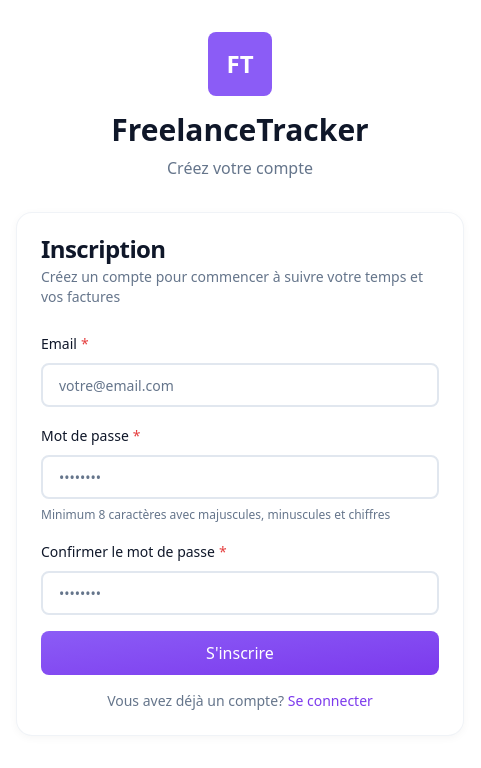
Scenario: Register page › validates email, password and confirm password before submitting
Step 1. Click the button "S'inscrire" → (240, 653), box [41, 631, 439, 675]
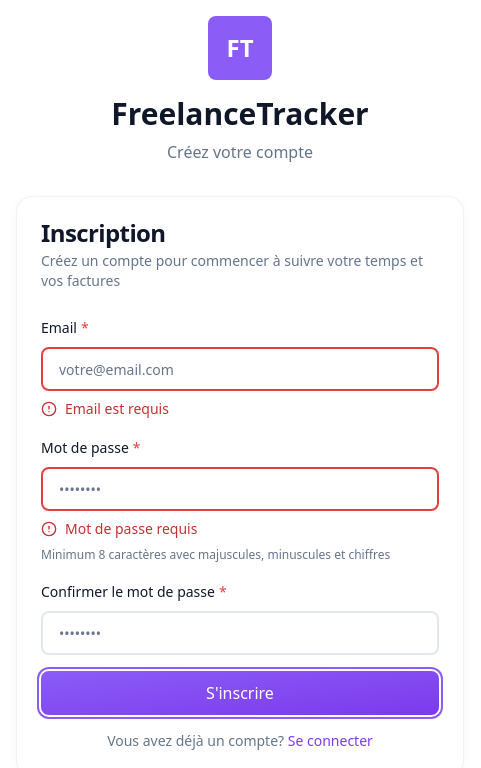
Check: the text "Email est requis" is shown, box [41, 399, 169, 418]
Check: the text "Mot de passe requis" is shown, box [41, 519, 197, 538]
Step 2. Type "user@example.com" into the field labelled "Email*" → (240, 369), box [41, 347, 439, 391]
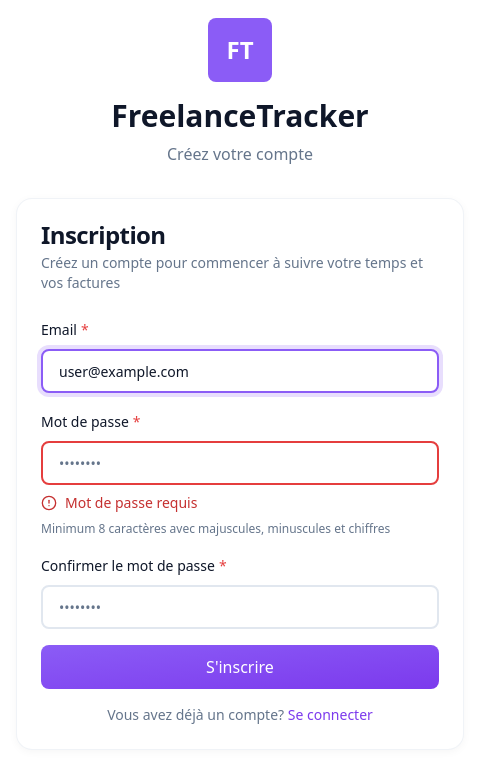
Step 3. Type "Password123" into the password field labelled "Mot de passe*" → (240, 463), box [41, 441, 439, 485]
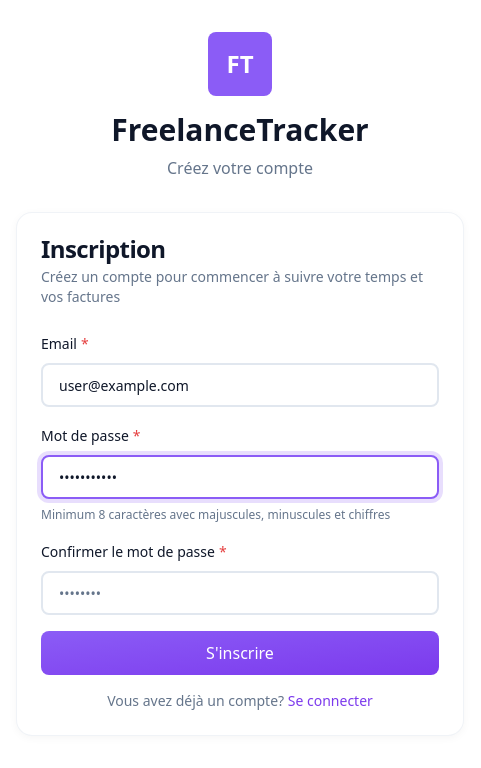
Step 4. Type "Different123" into the password field labelled "Confirmer le mot de passe*" → (240, 593), box [41, 571, 439, 615]
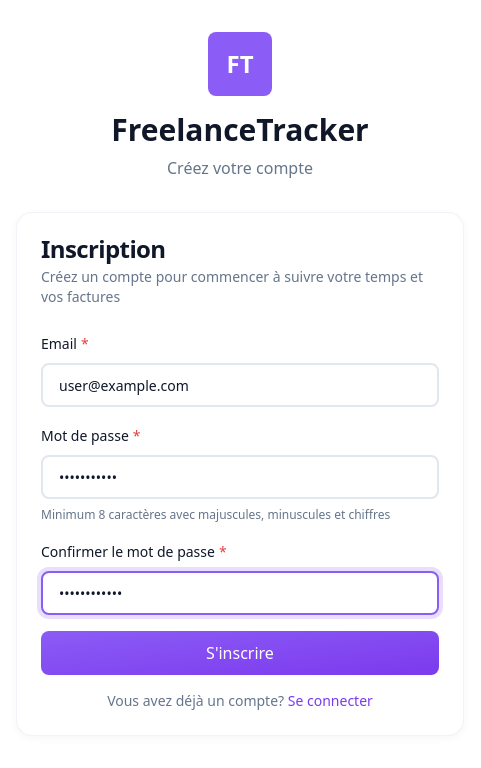
Step 5. Click the button "S'inscrire" → (240, 653), box [41, 631, 439, 675]
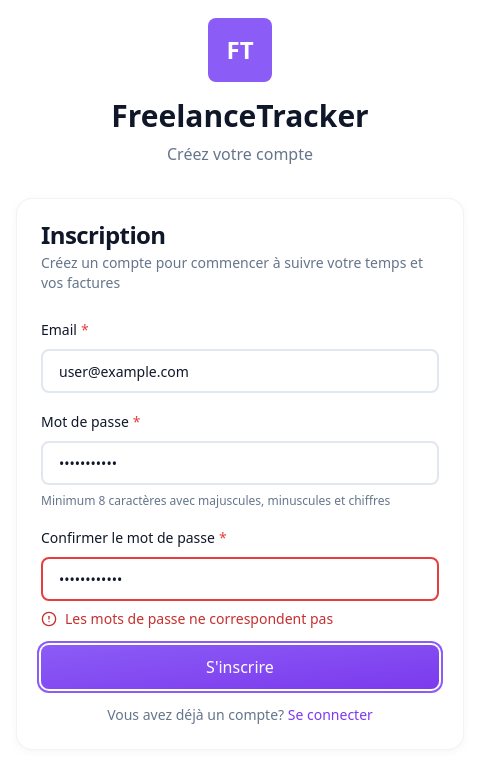
Check: the text "Les mots de passe ne correspondent pas" is shown, box [41, 609, 333, 628]
